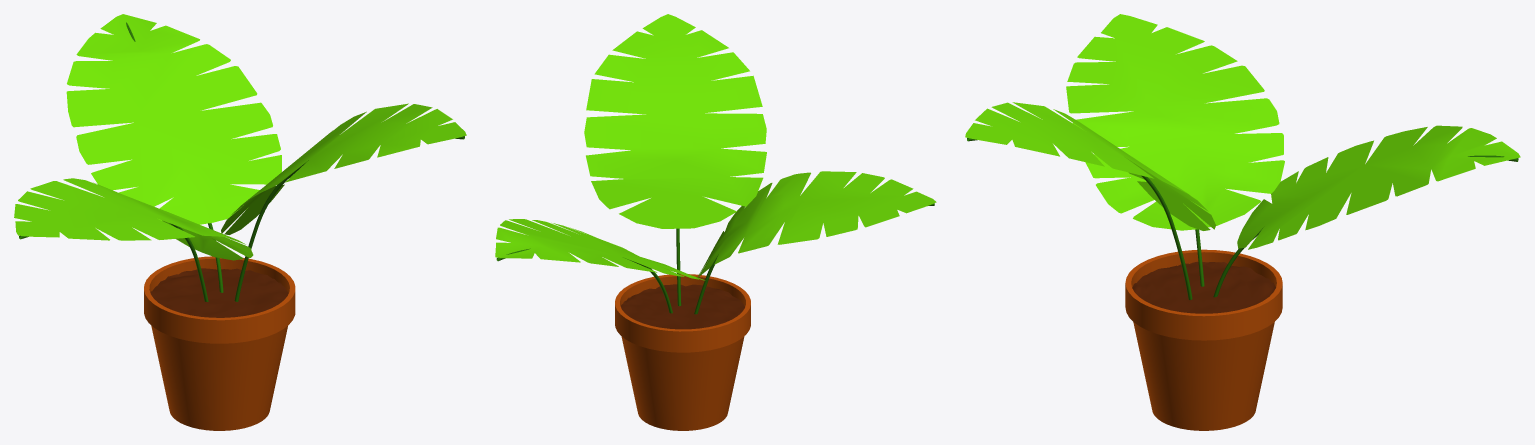
The model's file is PlantApplied.glb.
The picture shows the model from 3 angles, left to right: view 1: azimuth 30°, elevation 25°; view 2: azimuth 150°, elevation 25°; view 3: azimuth 270°, elevation 25°; orthographic projection. The views are drawn at different scales.
Parts seen in each view (by area): view 1: Plane.002, NurbsCurve.002; view 2: Plane.002, NurbsCurve.002; view 3: Plane.002, NurbsCurve.002.
Boxes of the visible parts, <box> form: Plane.002: <box>14,14,466,430</box>; NurbsCurve.002: <box>19,22,464,301</box>; Plane.002: <box>495,14,936,430</box>; NurbsCurve.002: <box>496,203,934,314</box>; Plane.002: <box>965,14,1520,430</box>; NurbsCurve.002: <box>967,138,1518,299</box>.
Size of the model in its own units: 1.24 by 0.9934 by 1.48.
